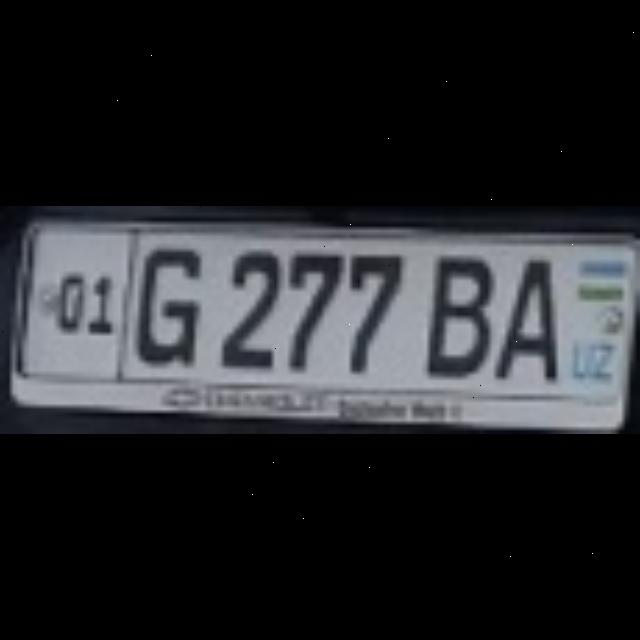0: (50, 268, 78, 328)
1: (84, 268, 106, 328)
2: (217, 245, 267, 362)
7: (344, 245, 390, 367), (284, 245, 328, 362)
A: (495, 256, 551, 374)
B: (424, 251, 484, 373)
G: (133, 245, 189, 362)
